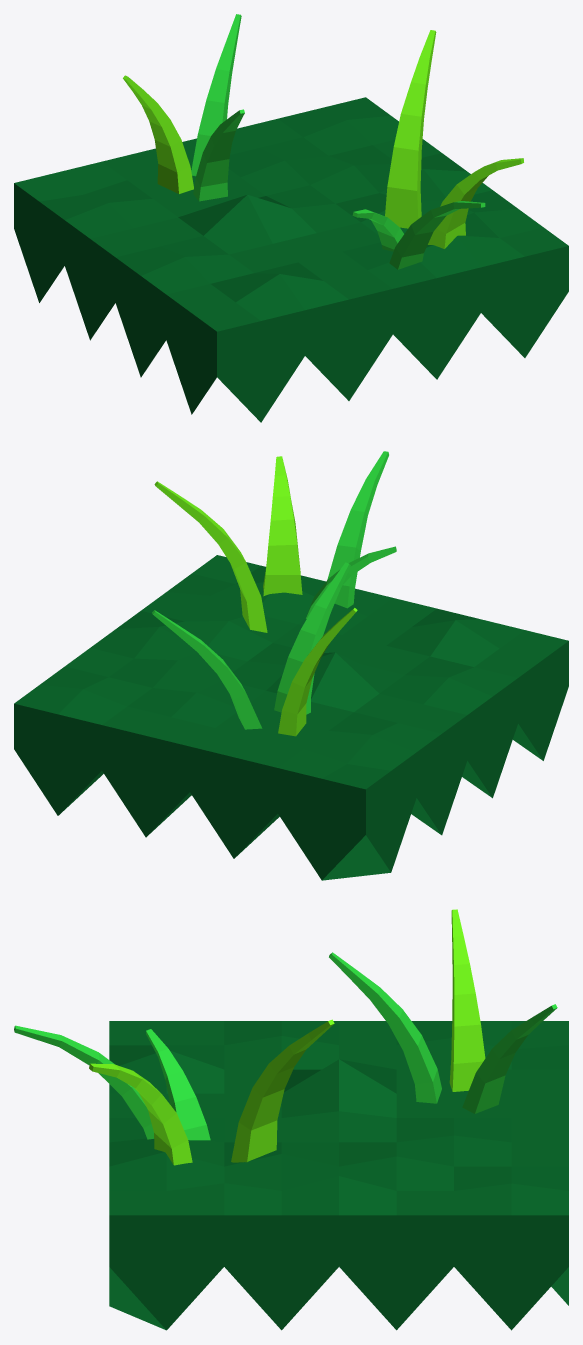
The model's file is grass1.fbx.
The picture shows the model from 3 angles, top to bottom: view 1: azimuth 30°, elevation 25°; view 2: azimuth 150°, elevation 25°; view 3: azimuth 270°, elevation 25°; orthographic projection. The views are drawn at different scales.
Visible parts, largest first — view 1: 立方体_1, 草_3, 草_1, 草_2, 草, 草_5, 草_4, 草_4_4; view 2: 立方体_1, 草_5, 草_3, 草_4, 草, 草_1, 草_2, 草_4_4; view 3: 立方体_1, 草_3, 草_1, 草, 草_5, 草_2, 草_4_4, 草_4.
Boxes of the visible parts, x1,y1,x2,y2 form: 立方体_1: (14, 97, 568, 422); 草_3: (385, 30, 436, 228); 草_1: (123, 75, 193, 193); 草_2: (191, 14, 241, 176); 草: (193, 109, 244, 201); 草_5: (428, 158, 523, 248); 草_4: (389, 201, 485, 269); 草_4_4: (352, 209, 403, 251); 立方体_1: (14, 555, 568, 880); 草_5: (263, 456, 302, 596); 草_3: (154, 481, 267, 632); 草_4: (327, 451, 388, 608); 草: (274, 562, 350, 714); 草_1: (278, 608, 357, 736); 草_2: (152, 610, 262, 729); 草_4_4: (306, 546, 396, 618); 立方体_1: (109, 1021, 568, 1330); 草_3: (231, 1019, 334, 1162); 草_1: (449, 909, 485, 1091); 草: (329, 952, 441, 1103); 草_5: (89, 1063, 192, 1165); 草_2: (462, 1004, 557, 1113); 草_4_4: (146, 1029, 210, 1140); 草_4: (14, 1025, 153, 1139).
Bounding box in the file's own units: 103 × 71.27 × 124.
